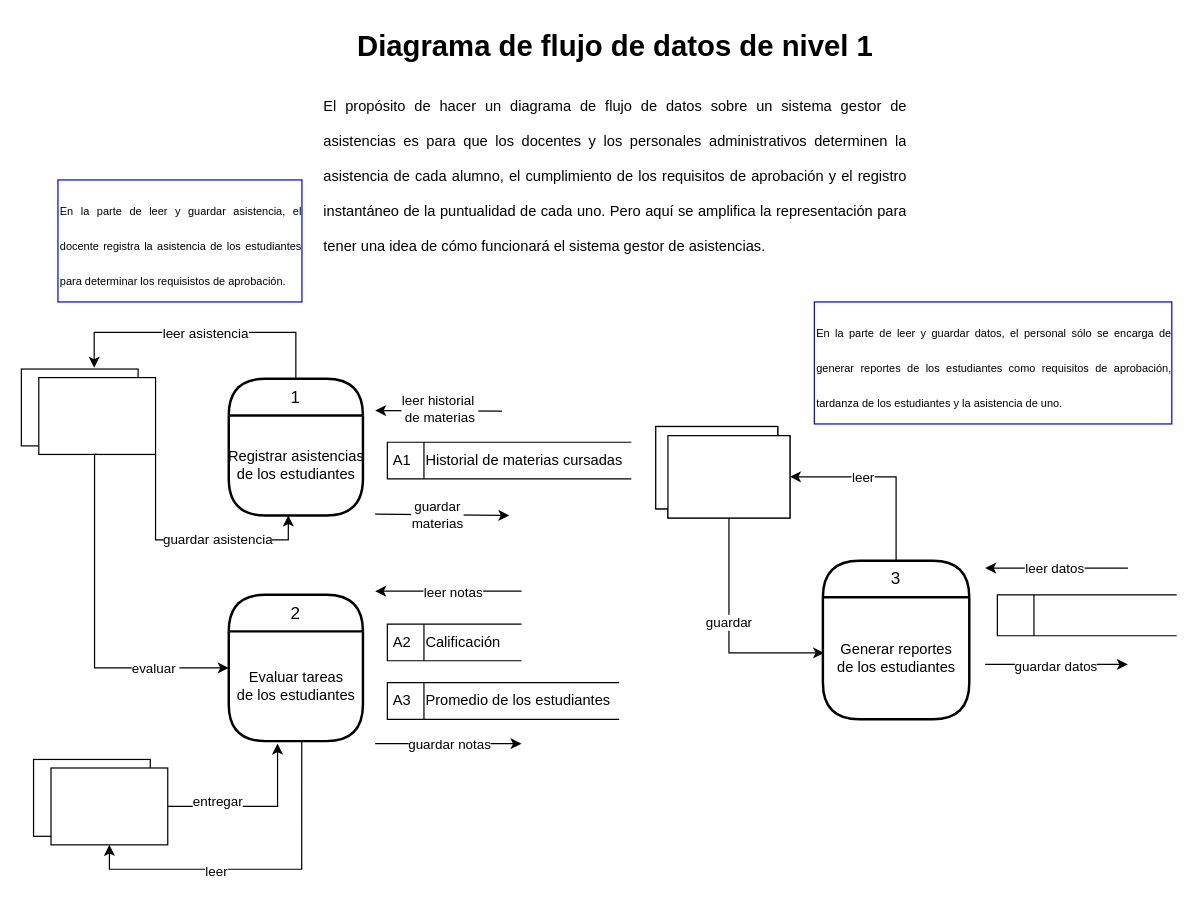
This 1198x900 diagram has some shape labels left out. The shapes that lost their labels are listed below. From the top down, each one's box as (x1, y1, x2, y2) in pixels, then its label:
(38, 376, 156, 454): Docente
(667, 434, 790, 518): Personal administrativo
(996, 594, 1177, 636): A4 Horarios de clases
(50, 767, 168, 845): Estudiante
